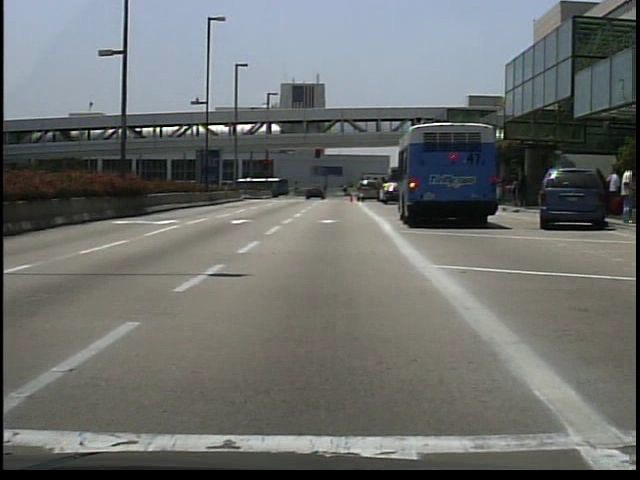person: (620, 163, 637, 222), (517, 173, 529, 208), (606, 168, 621, 192), (342, 184, 353, 199), (324, 185, 333, 200)
